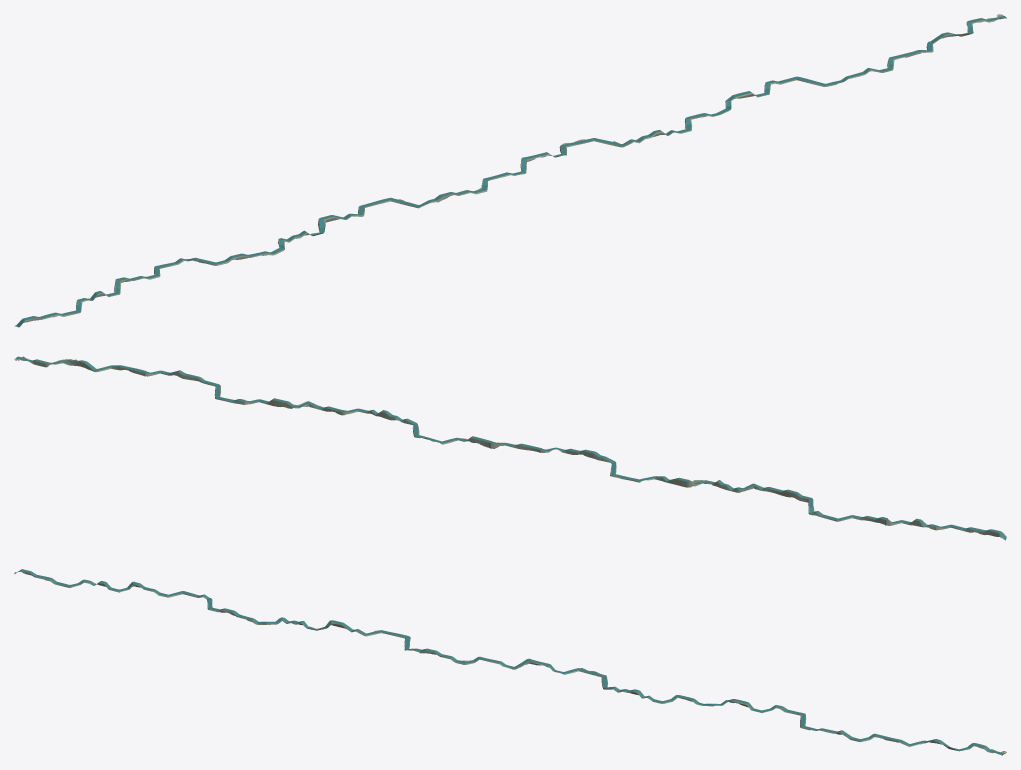
The model's file is river.glb.
3 renders of one model, top to bottom at view 1: azimuth 30°, elevation 25°; view 2: azimuth 150°, elevation 25°; view 3: azimuth 330°, elevation 25°, orthographic. The views are drawn at different scales.
Size of the model in its own units: 352 by 2.08 by 43.9.
